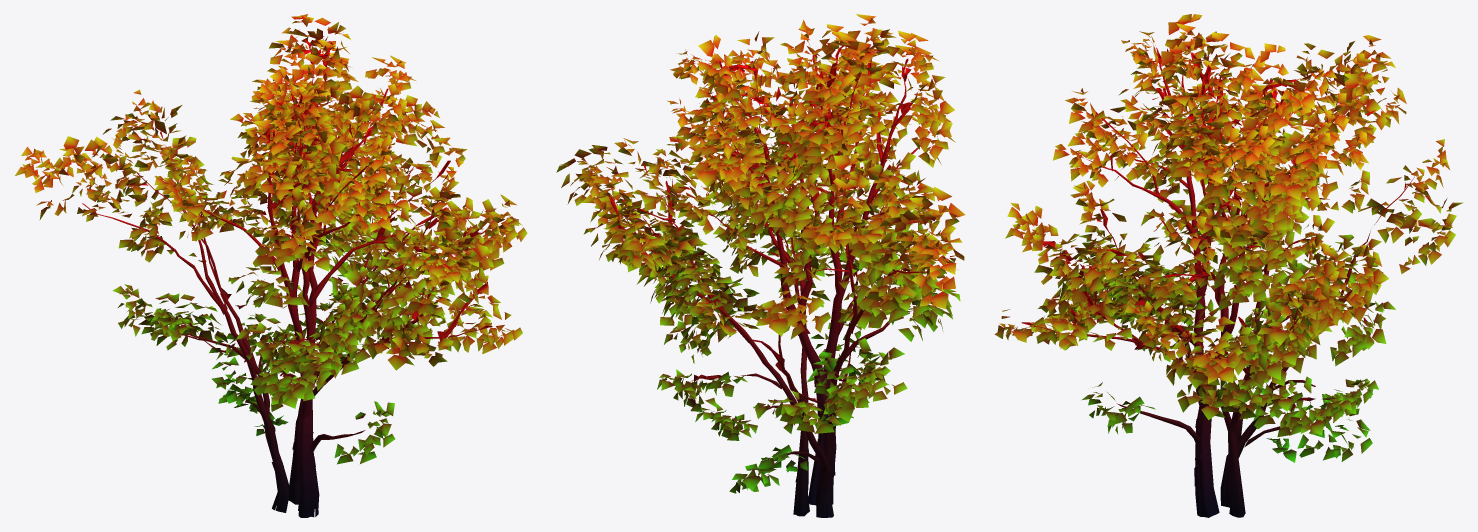
The model's file is SM_EuropeanHornbeam_Forest_09.fbx.
3 views of the same model, side by side, from view 1: azimuth 30°, elevation 25°; view 2: azimuth 150°, elevation 25°; view 3: azimuth 270°, elevation 25° (orthographic). The views are drawn at different scales.
Parts seen in each view (by area): view 1: SM_EuropeanHornbeam_Forest_09; view 2: SM_EuropeanHornbeam_Forest_09; view 3: SM_EuropeanHornbeam_Forest_09.
Part boxes in pixels (x1,y1,x2,y2): SM_EuropeanHornbeam_Forest_09: (15, 14, 527, 517); SM_EuropeanHornbeam_Forest_09: (556, 14, 965, 517); SM_EuropeanHornbeam_Forest_09: (994, 14, 1463, 517).
Size of the model in its own units: 620 by 569 by 641.
